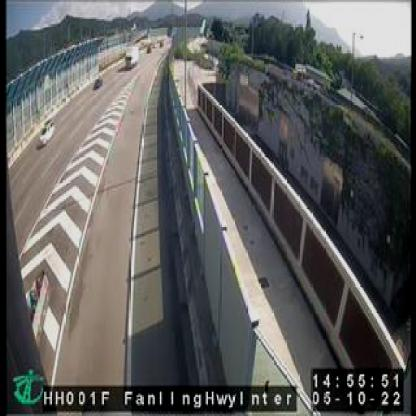Car: (39, 118, 55, 144), (92, 76, 100, 88)
Truck: (125, 43, 140, 70)
